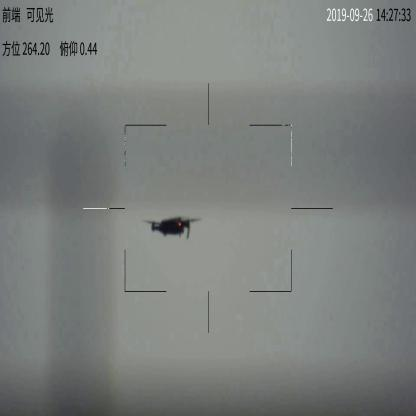uav: (143, 215, 200, 240)
